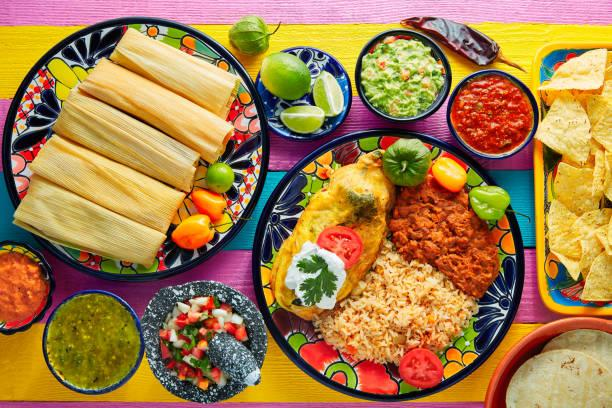Braised Crucian Carp: (251, 126, 524, 401), (2, 16, 260, 280), (528, 33, 612, 319)
